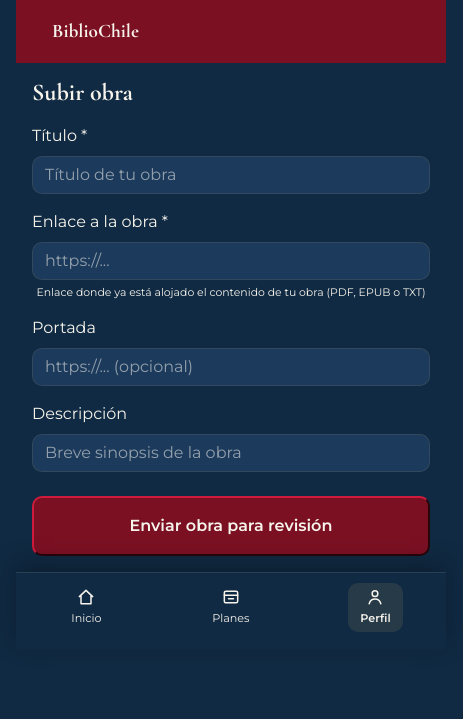
Test: SubirObra › muestra el error del backend si la obra es rechazada (autor no aprobado)
Expected: the heading "Subir obra" is shown, [32,78,133,107]
Type "Mi obra" into the field labelled "Título *". click: (231, 175)
box: [32,156,430,194]
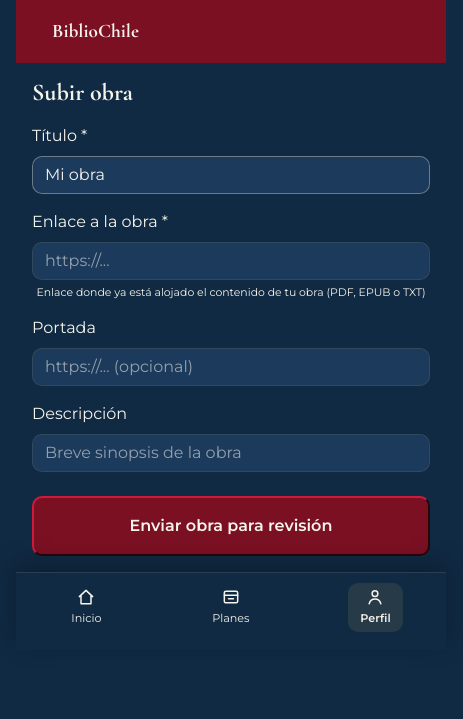
Type "https://ejemplo.cl/obra.pdf" into the field labelled "Enlace a la obra *". click: (231, 261)
box: [32,242,430,280]
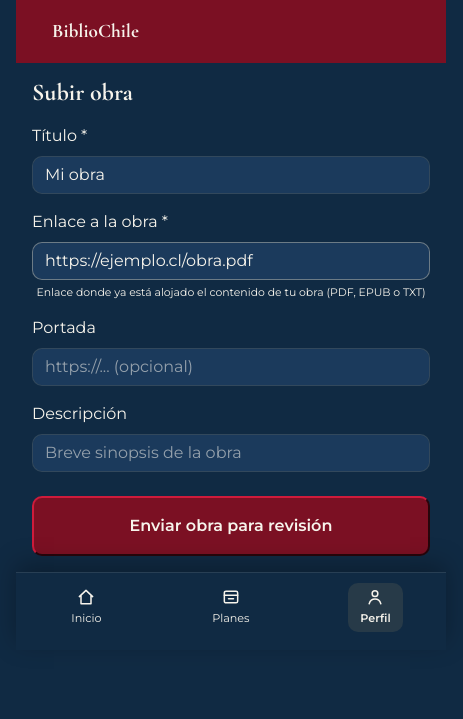
Click the button "Enviar obra para revisión". click: (231, 526)
box: [32,496,430,556]
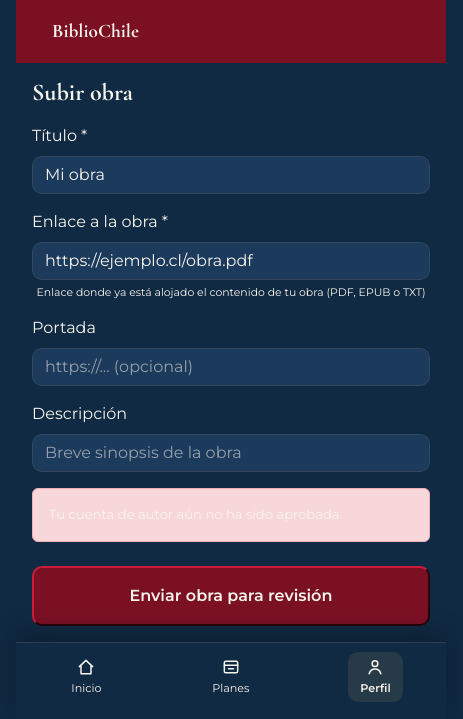
Expected: the text "Tu cuenta de autor aún no ha sido aprobada" is shown, [32,488,430,542]
